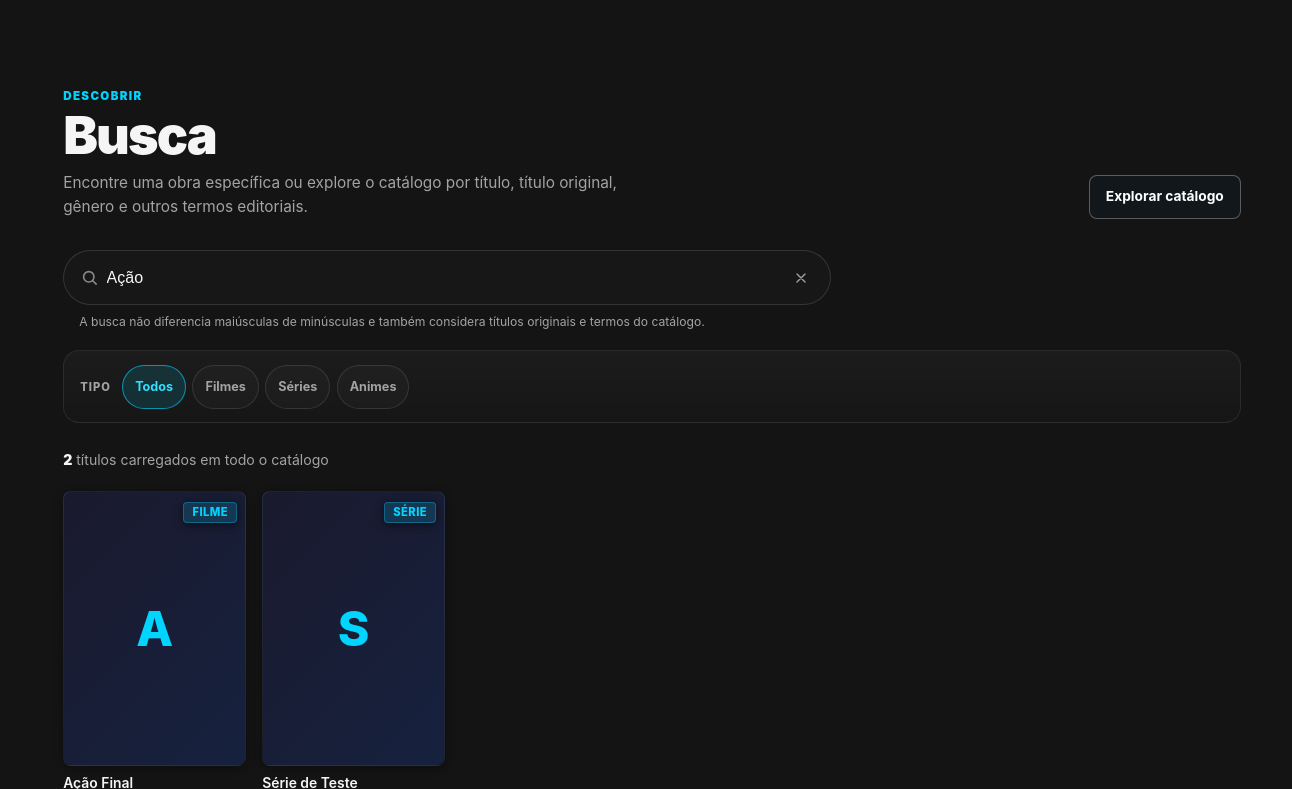
Test case: clears the search term and restores the empty state
Click the button named "Limpar busca": (801, 278) x1=779 y1=256 x2=823 y2=300
(page scrolled)
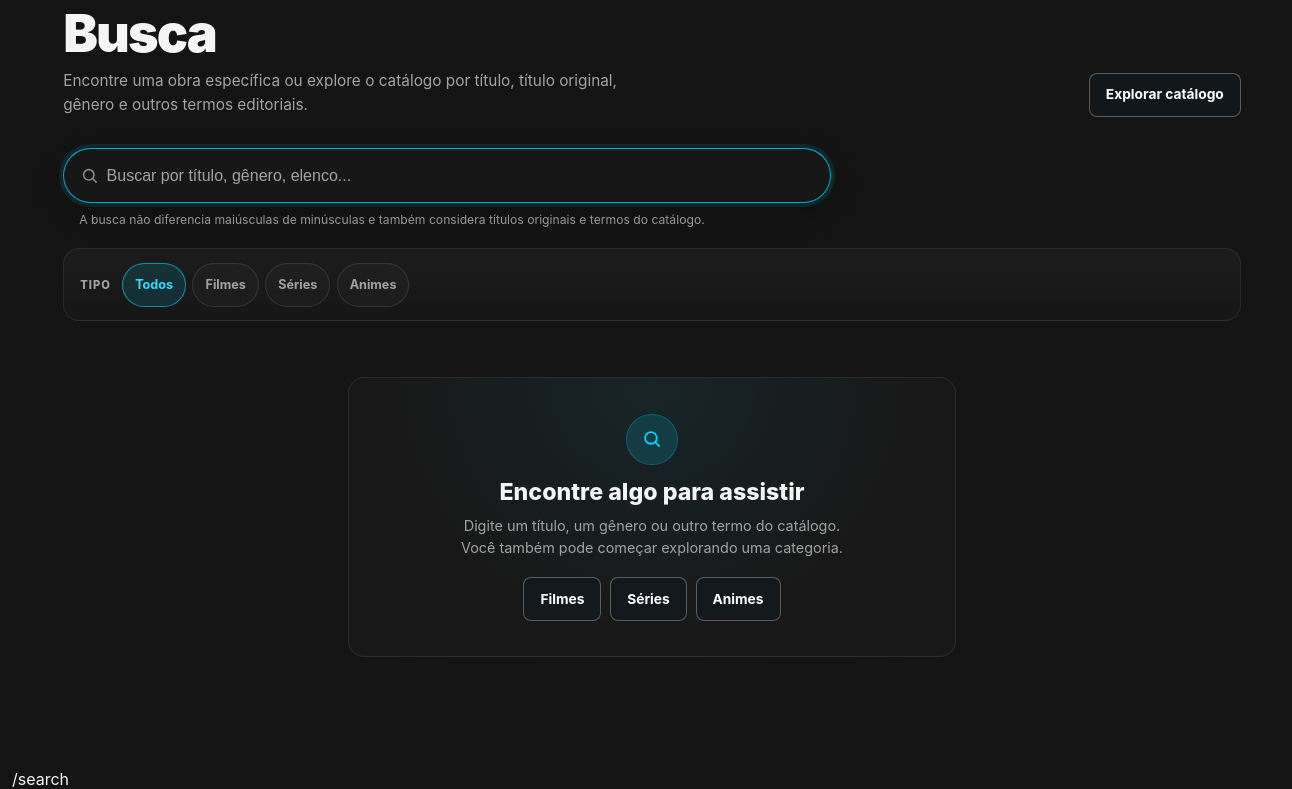
Result: the search field named "Buscar no catálogo" is empty at x1=107 y1=154 x2=823 y2=198
Result: the heading "Encontre algo para assistir" is shown at x1=500 y1=479 x2=805 y2=507
Result: the text with test id "location" reads "/search" at x1=12 y1=769 x2=69 y2=788
